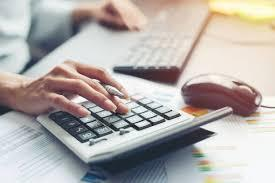Calculator: (35, 78, 235, 177)
